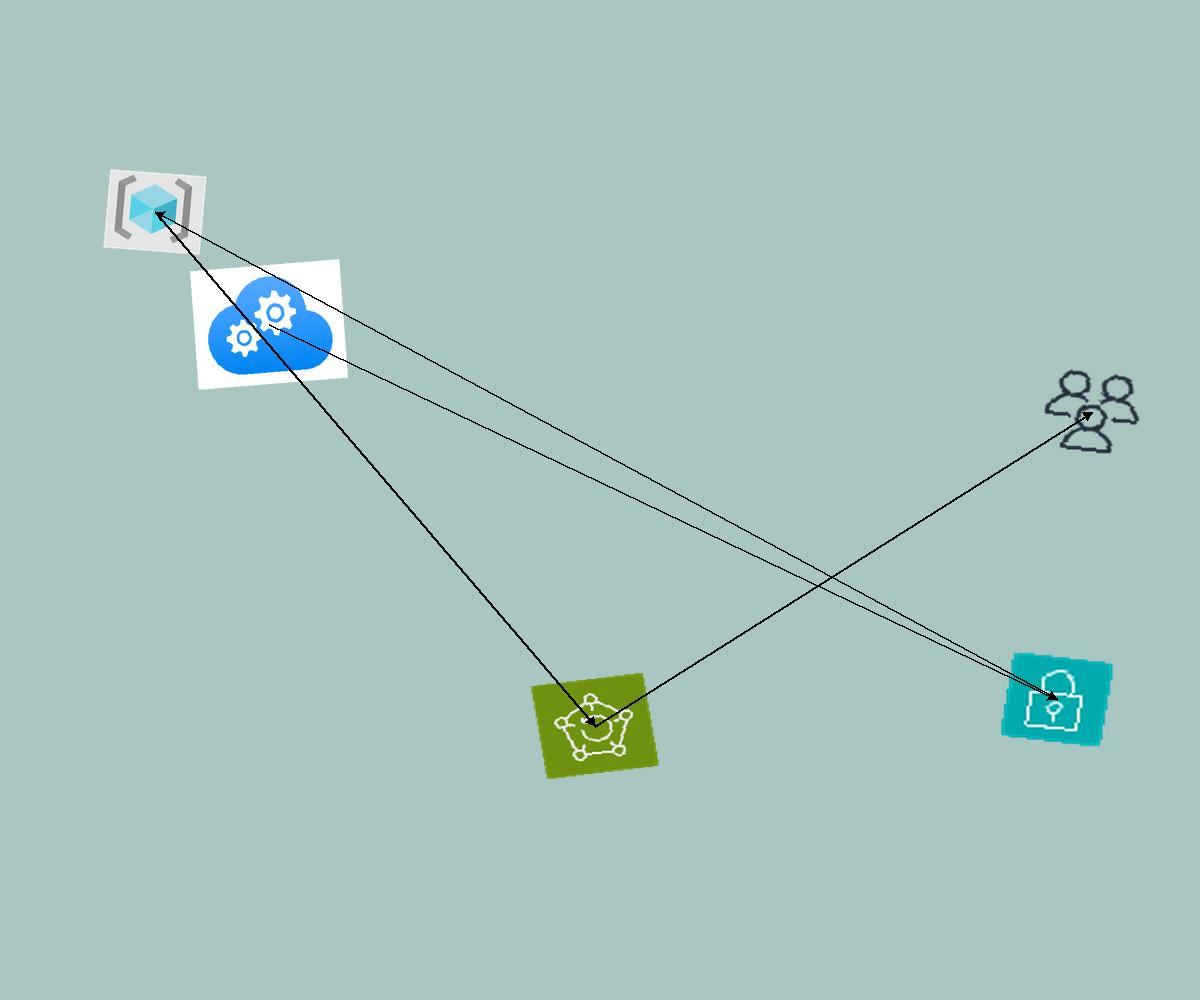AWS-Backup: (530, 672, 660, 780)
AWS-Private-subnet: (999, 651, 1115, 748)
AWS-Res_Users: (1032, 362, 1152, 462)
Azure_cloud_services: (190, 259, 348, 390)
Azure_resource_group: (103, 169, 207, 255)
